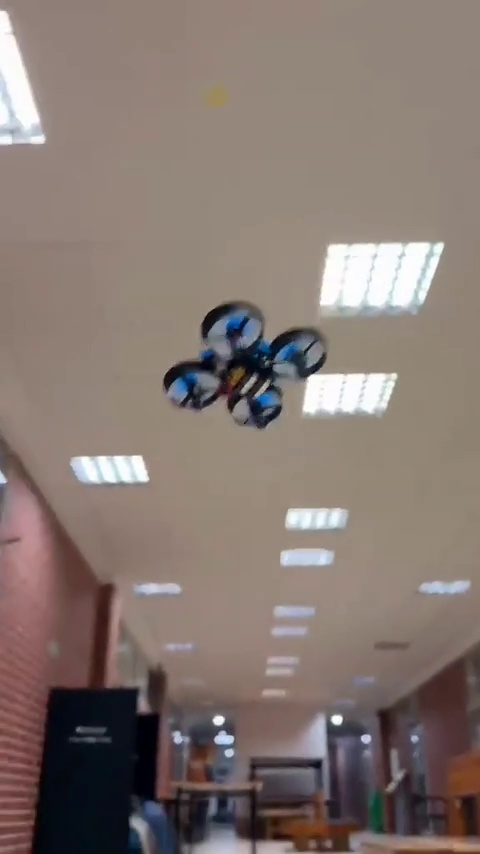drone: (161, 303, 325, 427)
